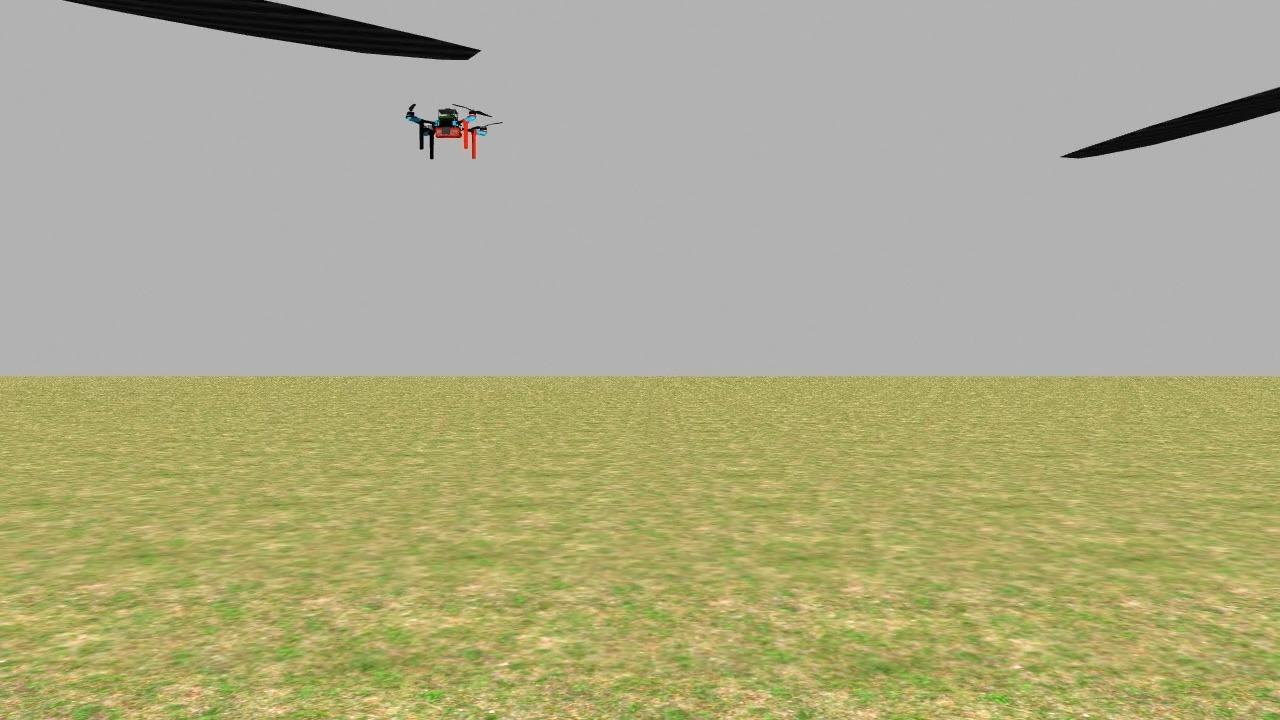UAV: (372, 81, 519, 172)
